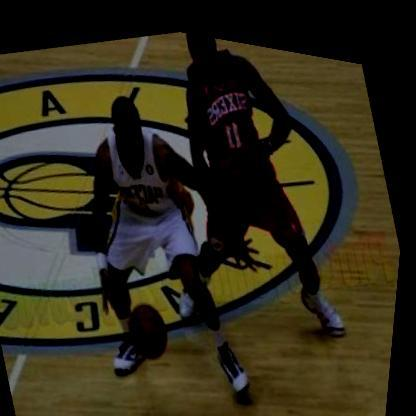basketball: (123, 285, 187, 366)
